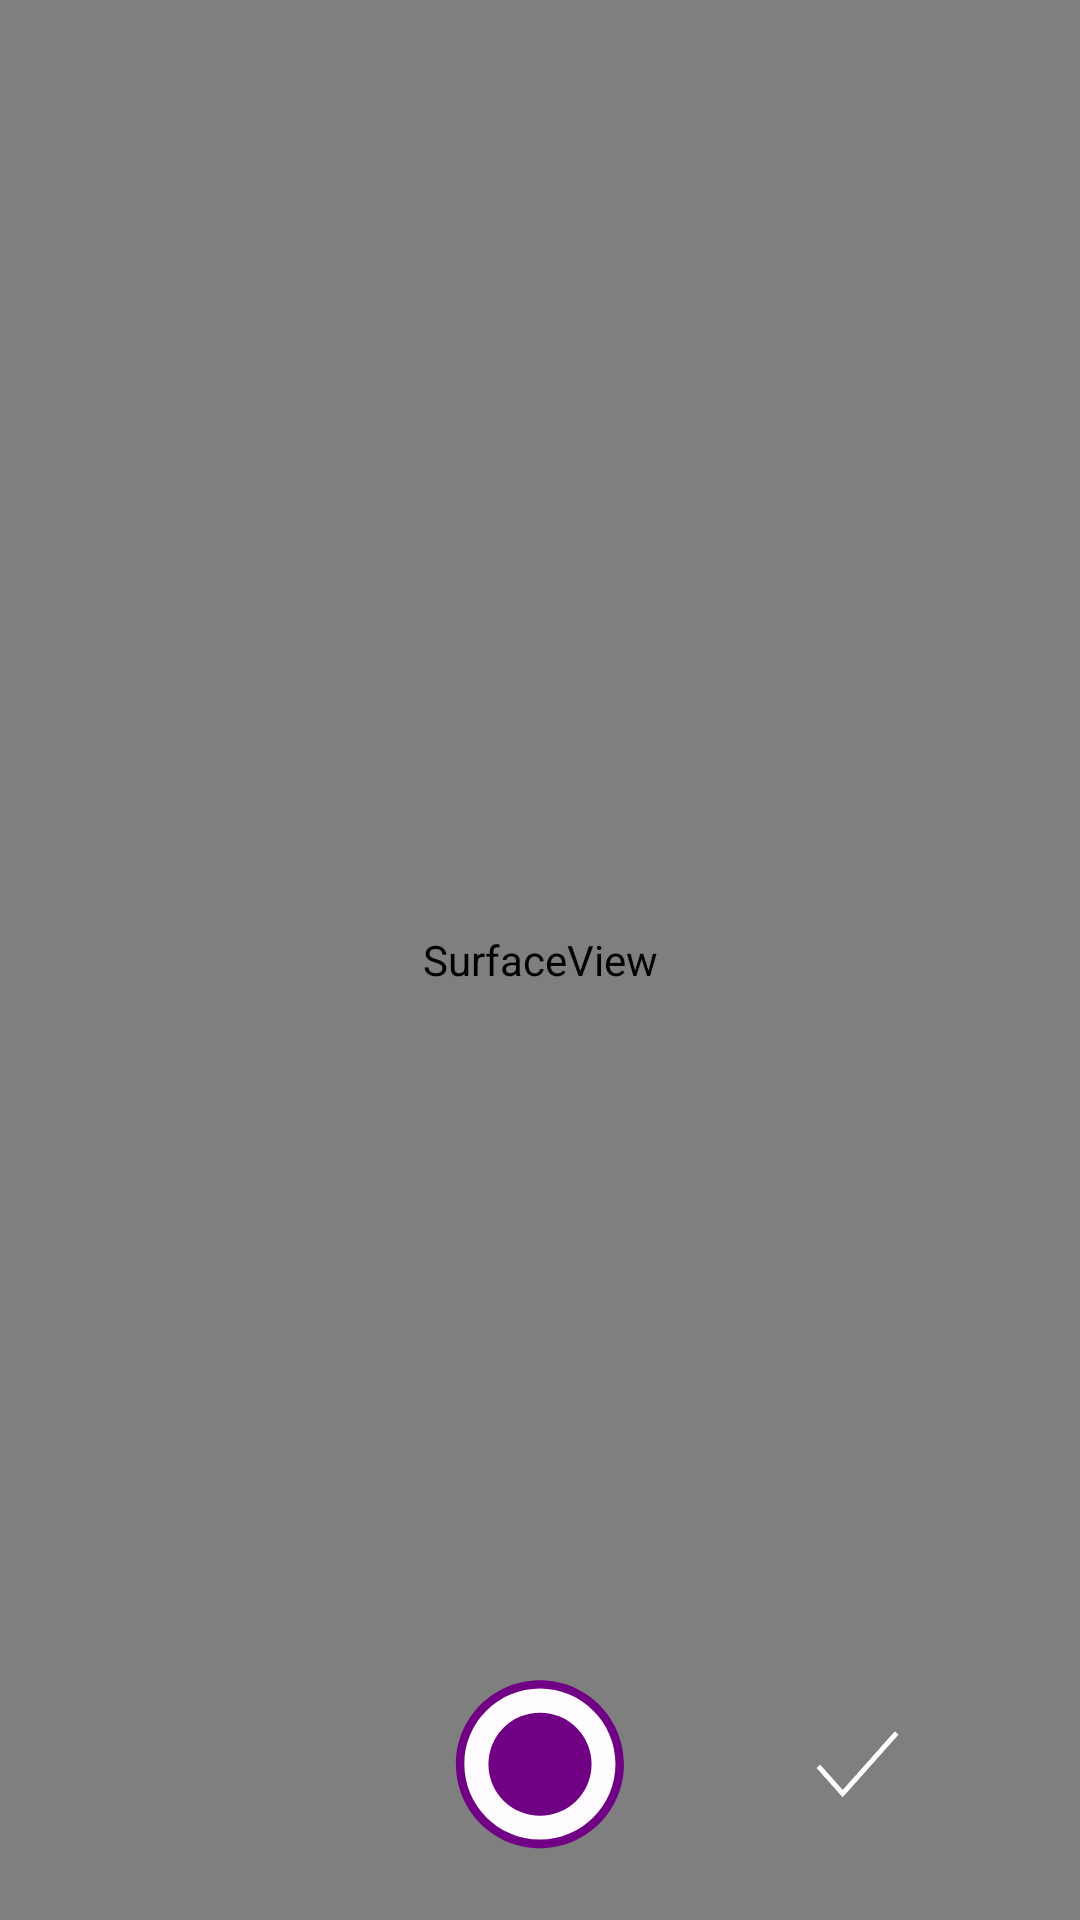

Icon click points for this 1080x1920 phone screenshot, format point (x, y):
camera sure: point (857, 1764)
take pic: point (539, 1764)
